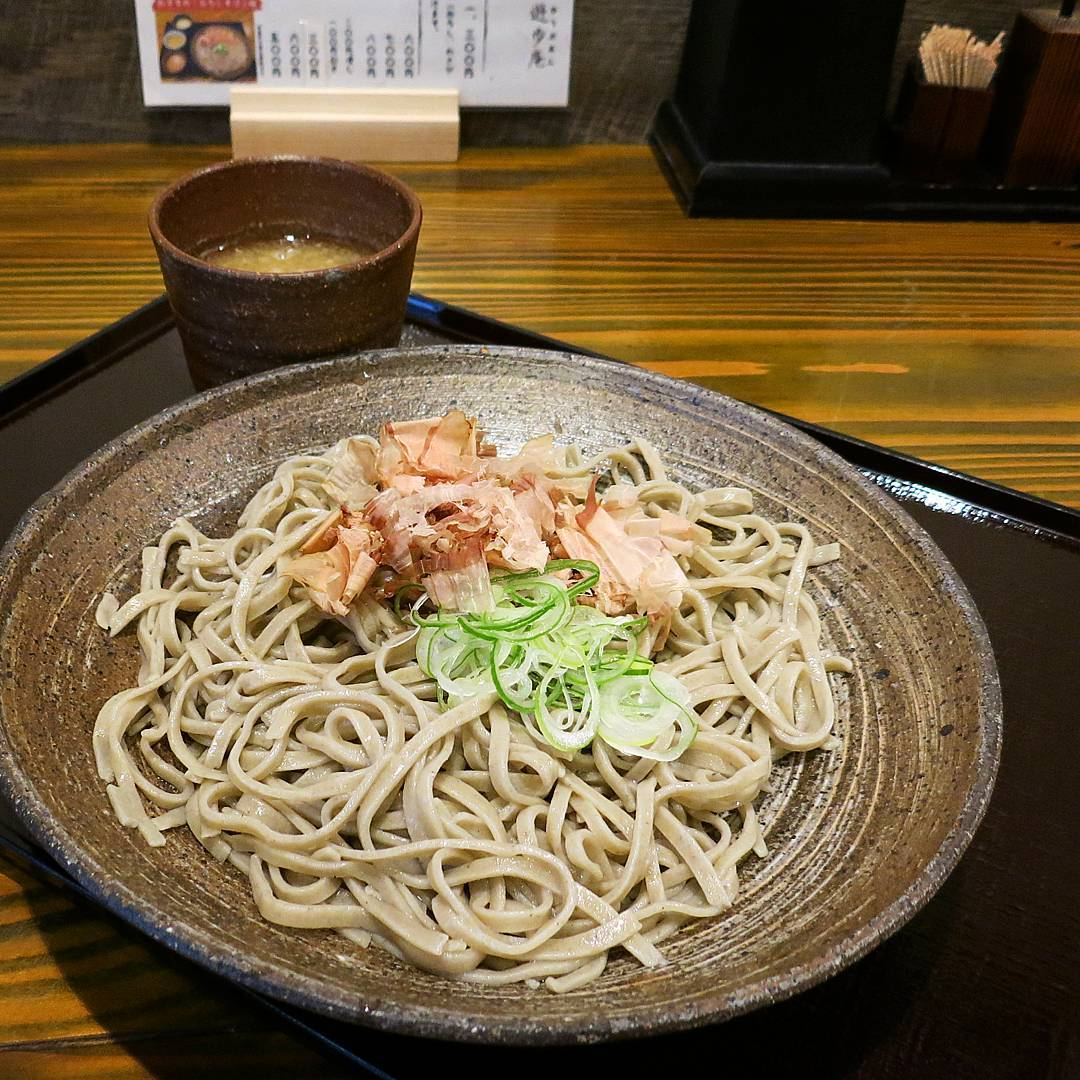Soba: (78, 422, 874, 980)
